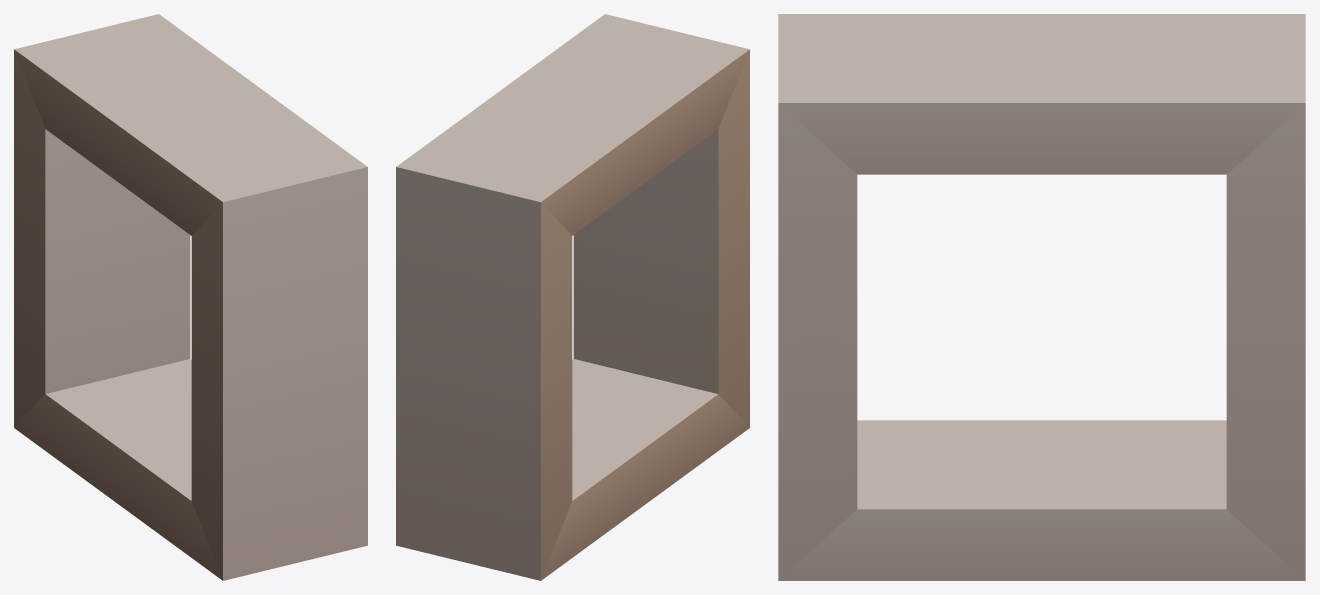
File: shelf-cube (%wall)_0.glb
3 renders of one model, left to right at view 1: azimuth 30°, elevation 25°; view 2: azimuth 150°, elevation 25°; view 3: azimuth 270°, elevation 25°, orthographic. The views are drawn at different scales.
Visible parts, largest first — view 1: shelf-cube (%wall); view 2: shelf-cube (%wall); view 3: shelf-cube (%wall).
Part boxes in pixels (left/top/right/bottom): shelf-cube (%wall): left=14, top=14, right=367, bottom=580; shelf-cube (%wall): left=396, top=14, right=749, bottom=580; shelf-cube (%wall): left=778, top=14, right=1305, bottom=580.
Bounding box in the file's own units: 0.2 × 0.5 × 0.5.
